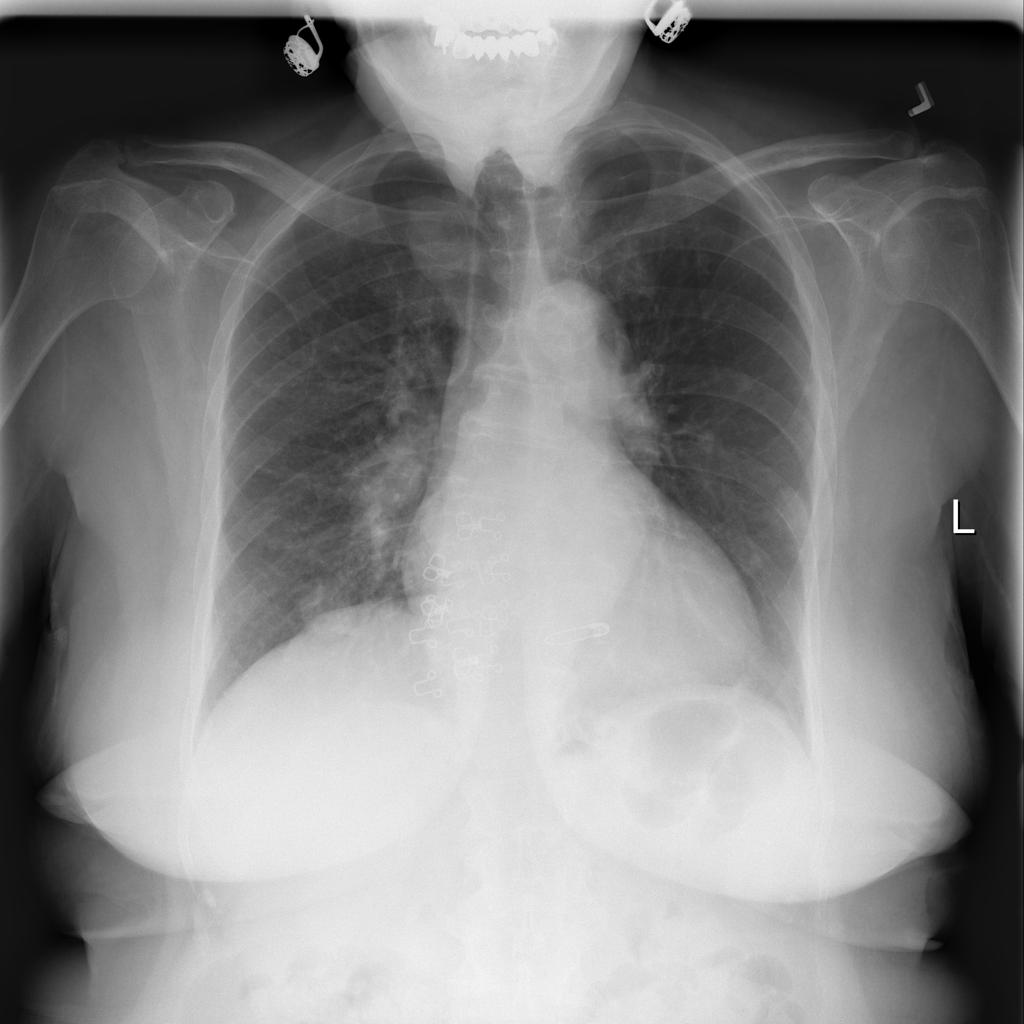nodule: (283, 573, 366, 644), (753, 472, 827, 549)
